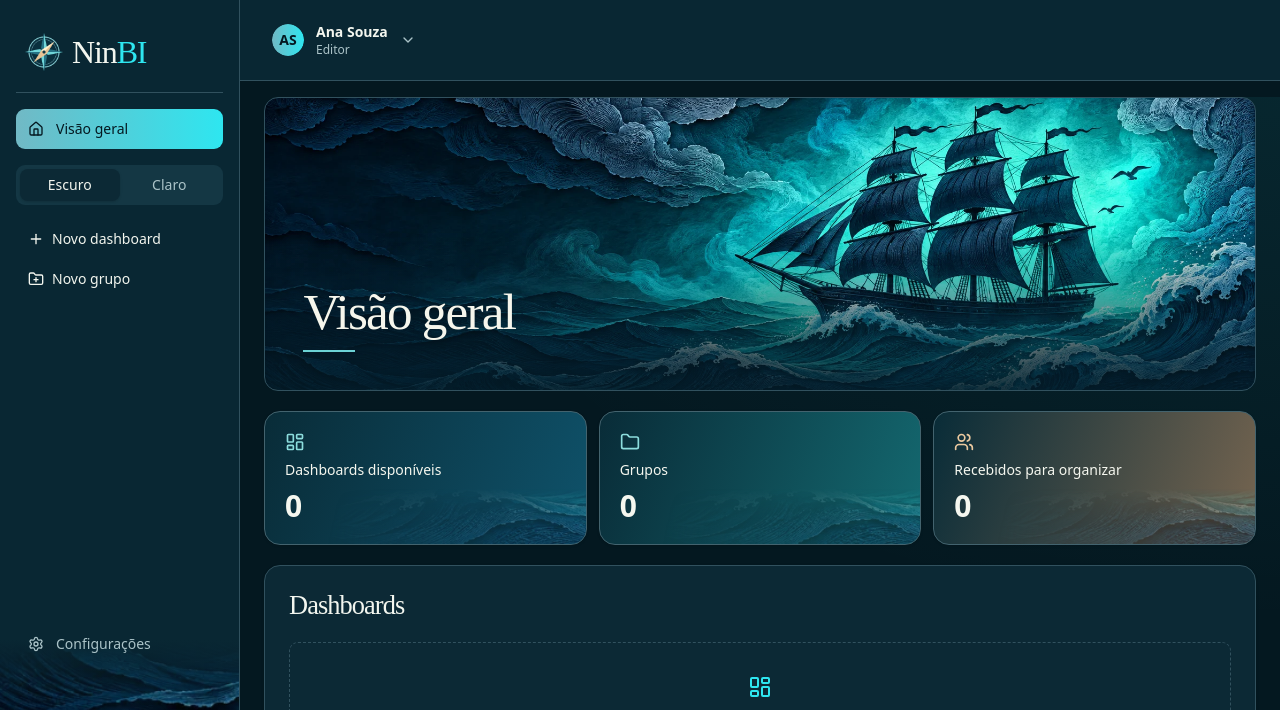
Scenario: Descrever para a IA › GEN-11 sem provedor Descrever para a IA fica desabilitado com Nenhum provedor de IA configurado
This screenshot has width=1280, height=710.
Click the button "Novo dashboard": (120, 239) [16, 221, 223, 257]
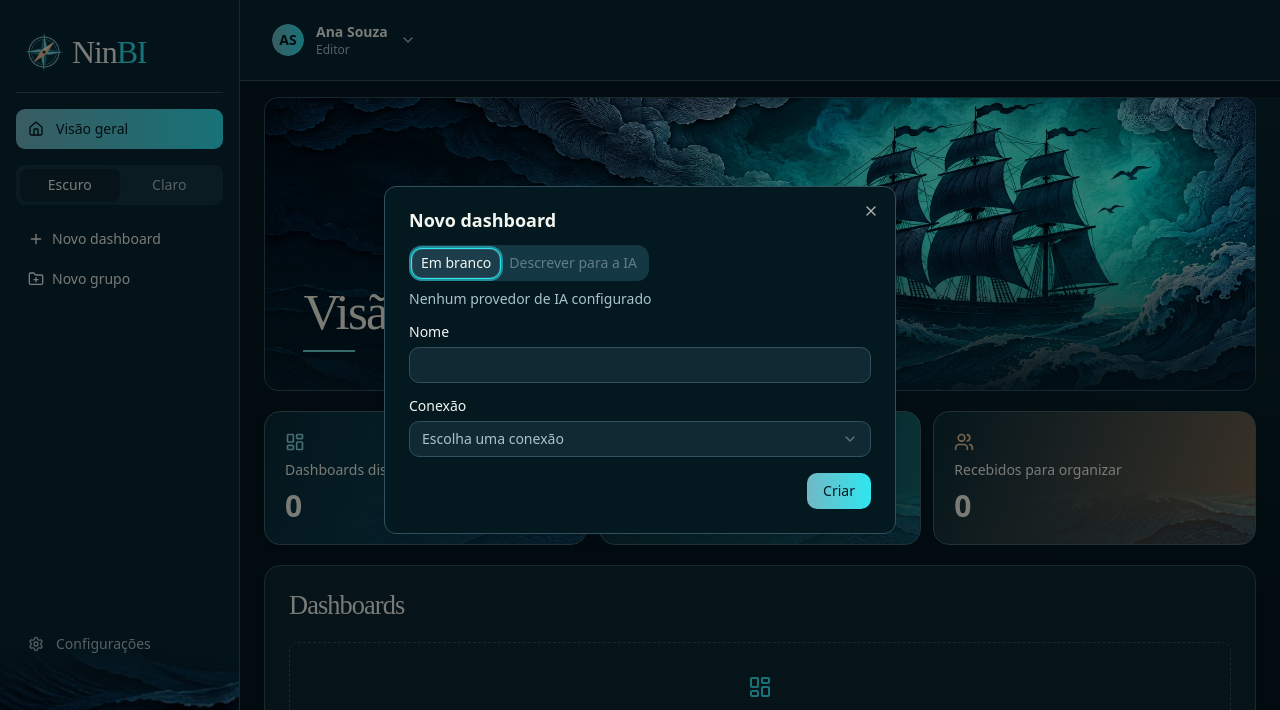
Check: the text "Nenhum provedor de IA configurado" is shown, box [409, 289, 652, 308]
Check: the tab "Descrever para a IA" is disabled, box [500, 248, 646, 278]
